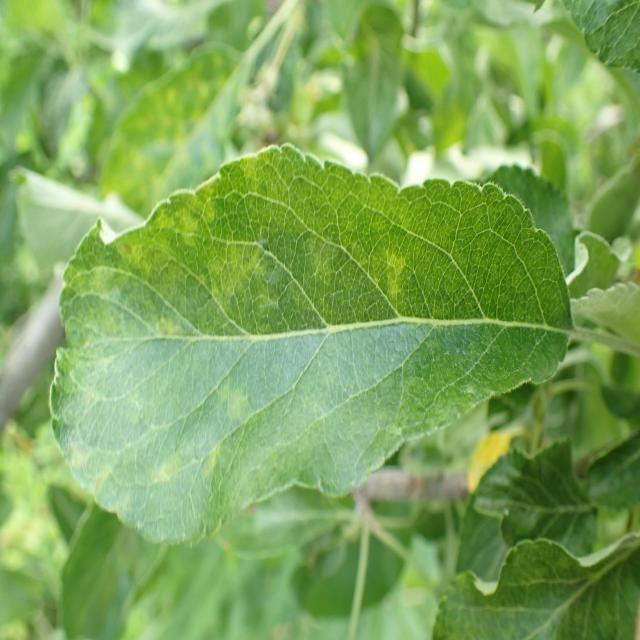scab: (49, 137, 483, 504)
